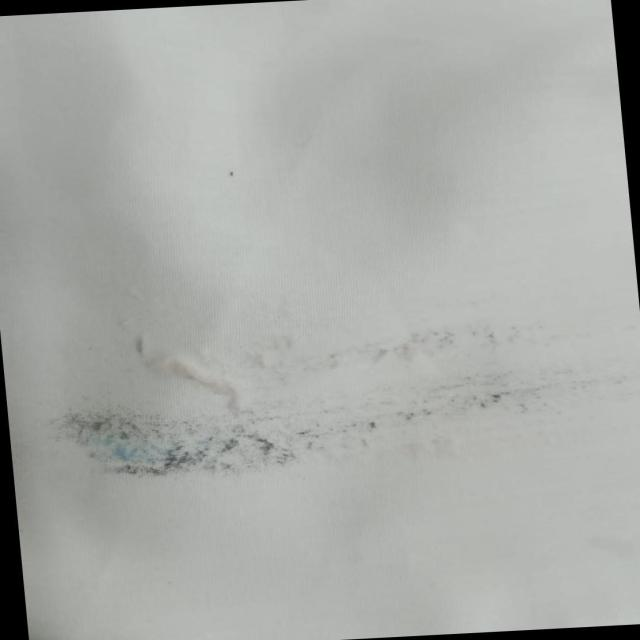stain: (36, 314, 597, 487)
